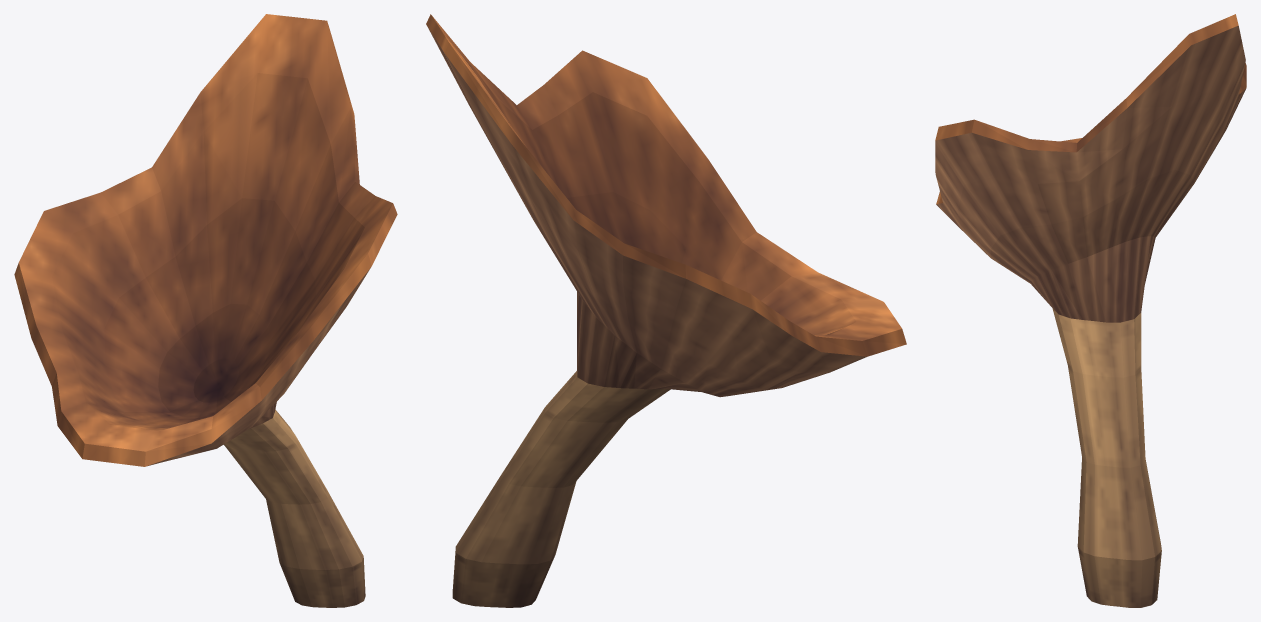
File: Trombeta-de-Cobre-03-Trombeta-Torta.glb
The picture shows the model from 3 angles, left to right: view 1: azimuth 30°, elevation 25°; view 2: azimuth 150°, elevation 25°; view 3: azimuth 270°, elevation 25°; orthographic projection. The views are drawn at different scales.
Parts seen in each view (by area): view 1: Trombeta torta; view 2: Trombeta torta; view 3: Trombeta torta.
Boxes of the visible parts, x1,y1,x2,y2 form: Trombeta torta: (14,14,397,607); Trombeta torta: (426,14,906,607); Trombeta torta: (935,14,1246,607).
Size of the model in its own units: 0.1359 by 0.2064 by 0.1018.
1 material, 1 textured.
